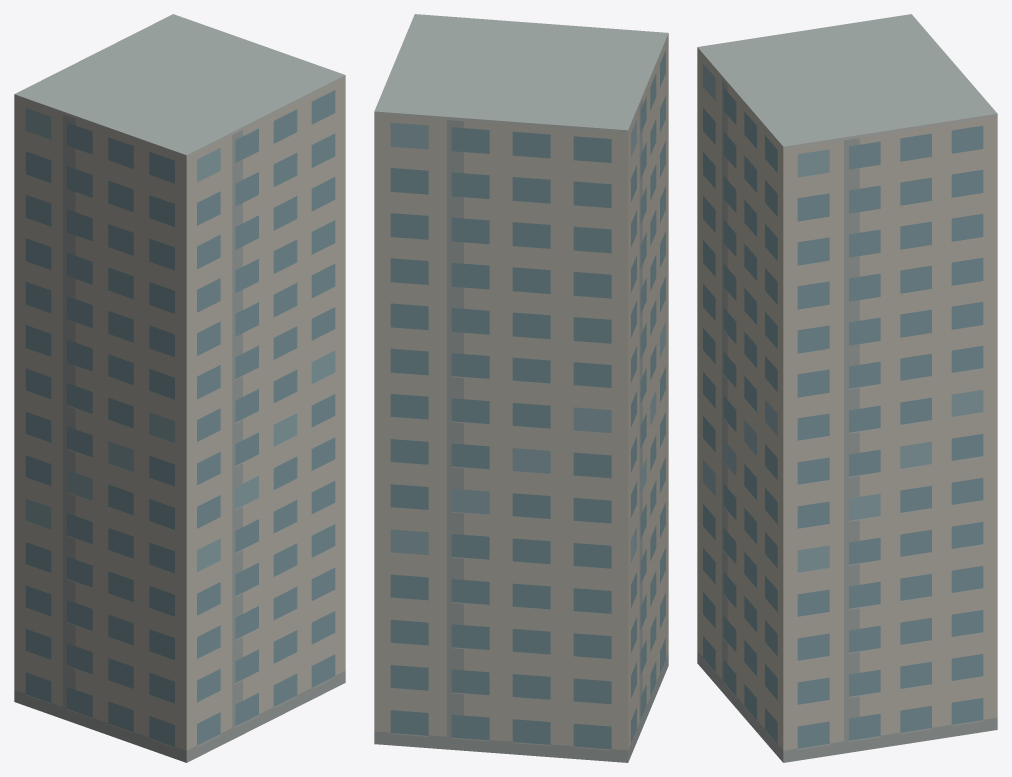
The model's file is residential-51decf71-f472-4fde-be0d-5bc864b8f6bd.glb.
3 renders of one model, left to right at view 1: azimuth 30°, elevation 25°; view 2: azimuth 150°, elevation 25°; view 3: azimuth 270°, elevation 25°, orthographic. The views are drawn at different scales.
Parts seen in each view (by area): view 1: residential-51decf71-f472-4fde-be0d-5bc864b8f6bd.tmp; view 2: residential-51decf71-f472-4fde-be0d-5bc864b8f6bd.tmp; view 3: residential-51decf71-f472-4fde-be0d-5bc864b8f6bd.tmp.
Boxes of the visible parts, bbox=[...] form: residential-51decf71-f472-4fde-be0d-5bc864b8f6bd.tmp: bbox=[14, 14, 345, 762]; residential-51decf71-f472-4fde-be0d-5bc864b8f6bd.tmp: bbox=[374, 14, 668, 762]; residential-51decf71-f472-4fde-be0d-5bc864b8f6bd.tmp: bbox=[697, 14, 997, 762].
Size of the model in its own units: 22.64 by 49 by 21.65.
